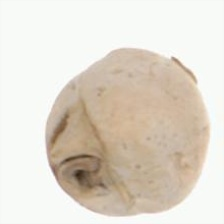L4: (45, 47, 210, 217)
